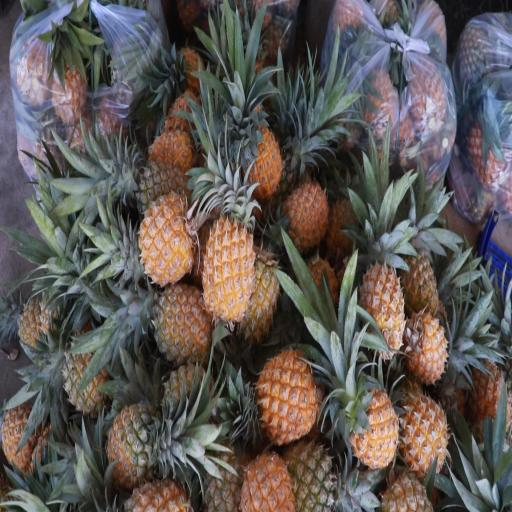------------------------------: (100, 397, 178, 492), (278, 416, 344, 512), (192, 410, 244, 511), (126, 157, 192, 230), (59, 323, 111, 408), (371, 454, 438, 512)
Pineapple - v8 v1: (253, 343, 319, 447), (142, 262, 212, 358), (201, 193, 254, 318), (135, 187, 197, 288), (356, 250, 406, 372), (392, 376, 450, 474), (233, 220, 279, 334), (343, 378, 400, 470), (280, 174, 335, 257), (398, 223, 443, 316), (401, 296, 451, 379), (234, 447, 292, 512), (243, 118, 286, 202), (0, 393, 43, 473)
